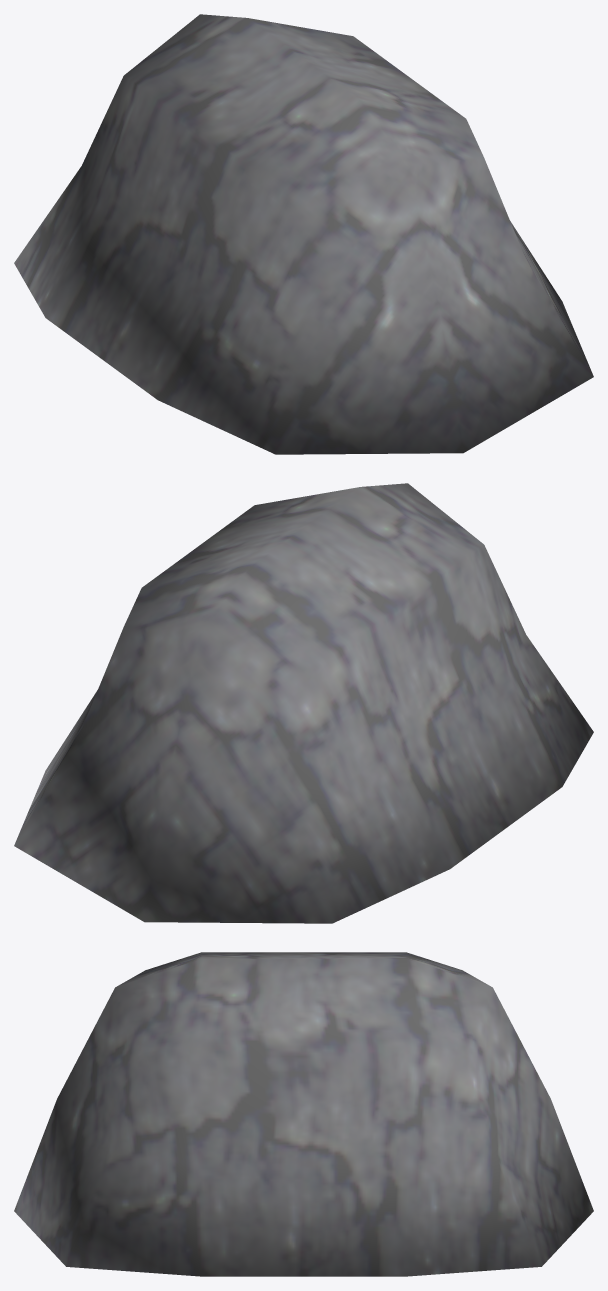
Rendered from burnt_pieces01.fbx.
3 renders of one model, top to bottom at view 1: azimuth 30°, elevation 25°; view 2: azimuth 150°, elevation 25°; view 3: azimuth 270°, elevation 25°, orthographic. The views are drawn at different scales.
Parts seen in each view (by area): view 1: burnt_pieces01; view 2: burnt_pieces01; view 3: burnt_pieces01.
Part boxes in pixels (<box>): burnt_pieces01: <box>14,14,593,454</box>; burnt_pieces01: <box>14,483,593,923</box>; burnt_pieces01: <box>14,952,593,1276</box>.
Size of the model in its own units: 4.5 by 2.95 by 6.15.
